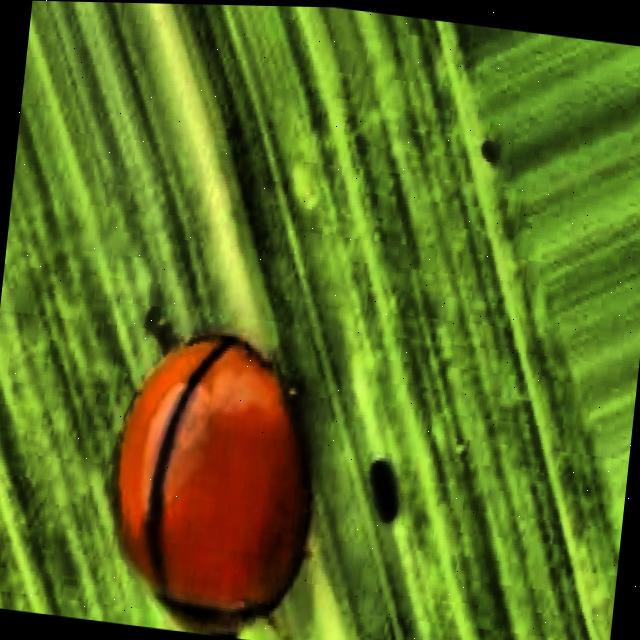Ladybug: (96, 281, 342, 640)
